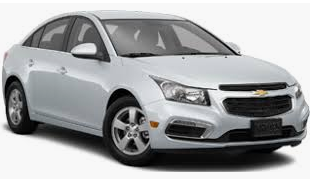car: (1, 9, 311, 171)
